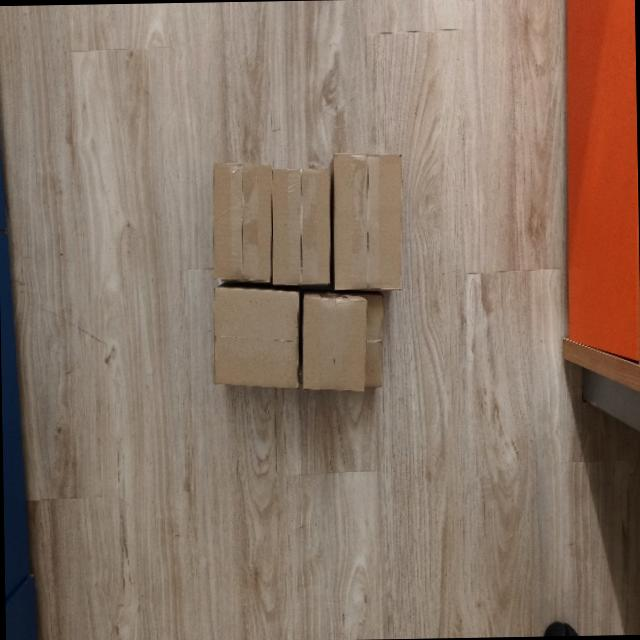box: (328, 151, 408, 292), (207, 284, 303, 394), (207, 160, 277, 288), (265, 166, 334, 287), (299, 294, 372, 396)
